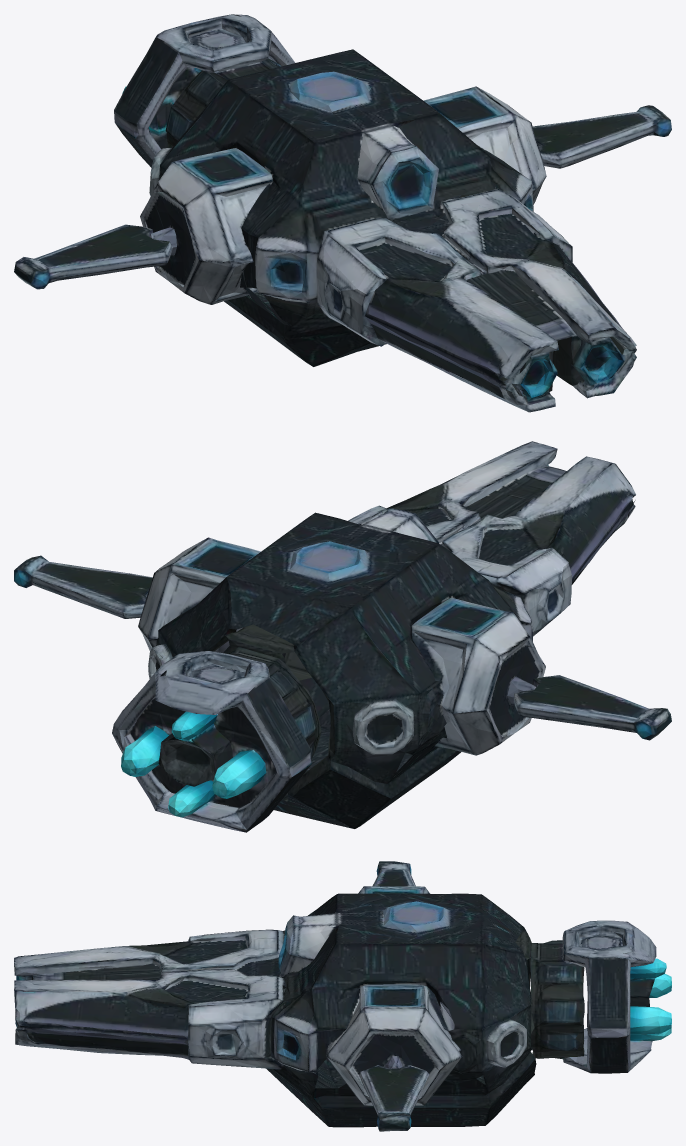
Rendered from 05_護衛艦.glb.
3 views of the same model, one above another, from view 1: azimuth 30°, elevation 25°; view 2: azimuth 150°, elevation 25°; view 3: azimuth 270°, elevation 25° (orthographic). The views are drawn at different scales.
Parts seen in each view (by area): view 1: part_1; view 2: part_1; view 3: part_1.
Boxes of the visible parts, <box> form: part_1: <box>14,14,671,412</box>; part_1: <box>14,441,671,832</box>; part_1: <box>14,861,671,1131</box>.
Size of the model in its own units: 0.9323 by 0.3126 by 1.
1 material, 1 textured.
